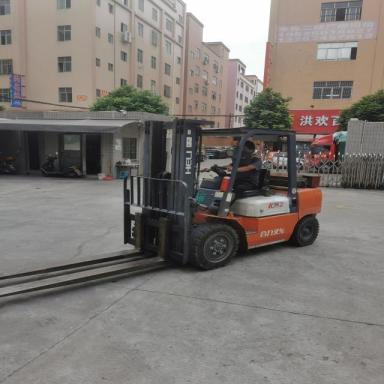forklift: (0, 117, 326, 305)
